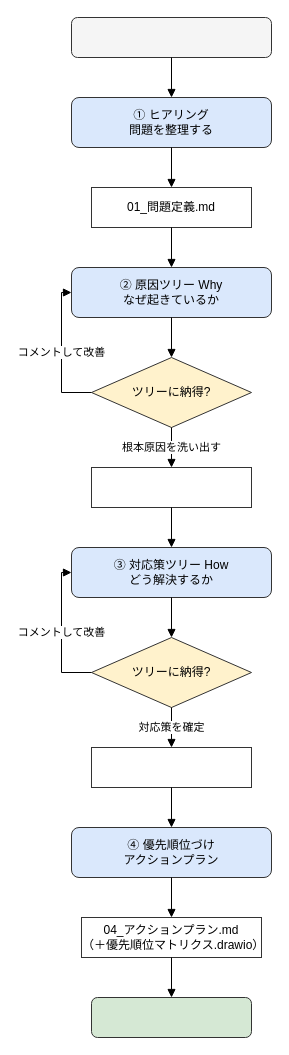
Some shapes in this 289 by 1055 pixel diagram are drawn without their labels. The shapes that lost their labels are listed below. From the top down, each one's centre as x and y in pixels, then its label:
At (171,37): "困りごと・相談".
At (171,487): "02_原因ツリー_why.md （＋.drawio）".
At (171,767): "03_対応策ツリー_how.md （＋.drawio）".
At (171,1017): "実行へ".
